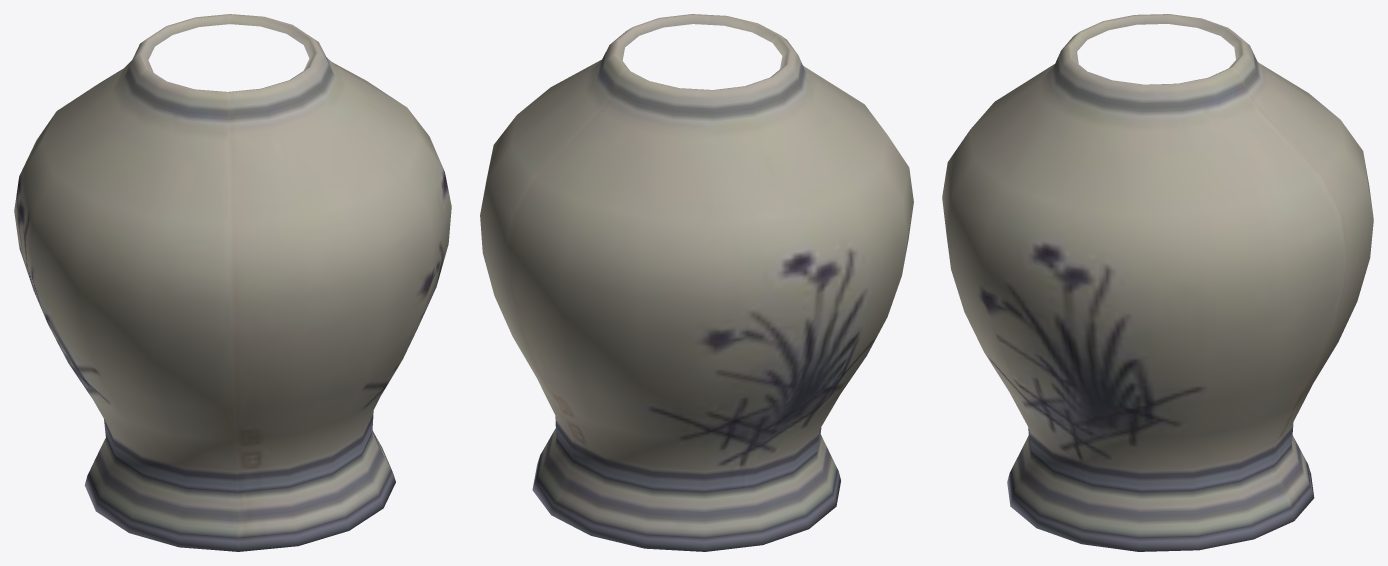
File: TW2_9_ADDONS_04_16-transformed.glb
3 renders of one model, left to right at view 1: azimuth 30°, elevation 25°; view 2: azimuth 150°, elevation 25°; view 3: azimuth 270°, elevation 25°, orthographic.
Parts seen in each view (by area): view 1: default; view 2: default; view 3: default.
Boxes of the visible parts, left/top/right/bottom form: default: left=14, top=14, right=451, bottom=551; default: left=480, top=14, right=913, bottom=551; default: left=942, top=14, right=1373, bottom=551.
Size of the model in its own units: 0.5211 by 0.5998 by 0.5213.
Materials: 1 (1 with a texture image).
